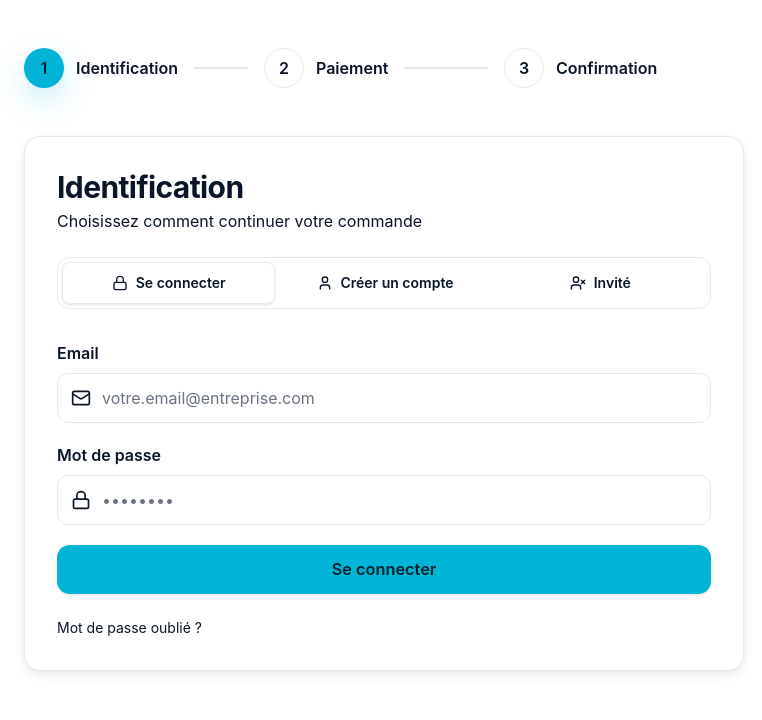
Test case: onglet inscription › affiche une erreur si les mots de passe ne correspondent pas
The width and height of the screenshot is (762, 720).
Click the button "Créer un compte". click: (385, 283)
box: x1=279 y1=262 x2=491 y2=304
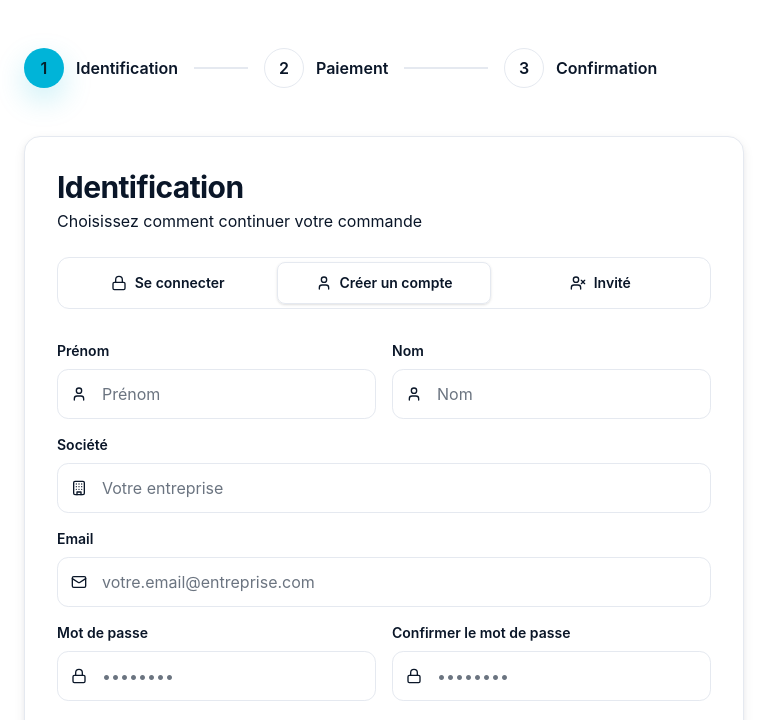
Type "Pass123!" into the password field with placeholder "••••••••". click: (216, 676)
box: x1=57 y1=651 x2=376 y2=701
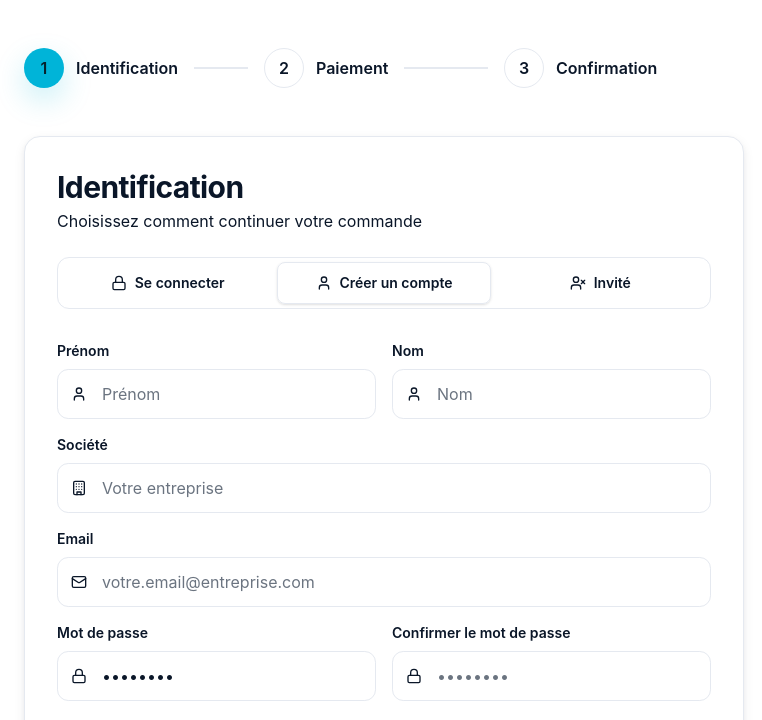
Type "Different1!" into the password field with placeholder "••••••••". click: (552, 676)
box: x1=392 y1=651 x2=711 y2=701
(page scrolled)
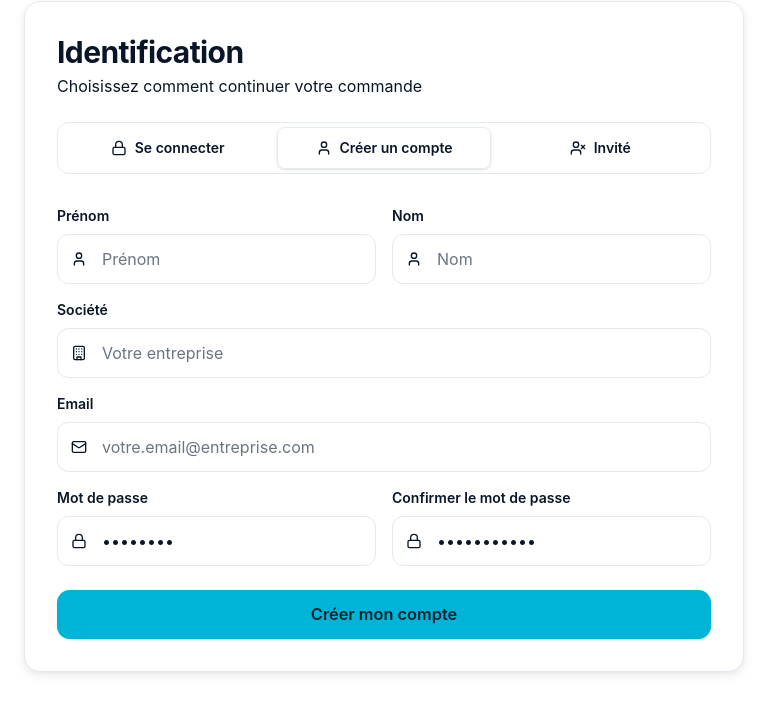
Submit the form with placeholder "••••••••", box x1=57 y1=206 x2=711 y2=639
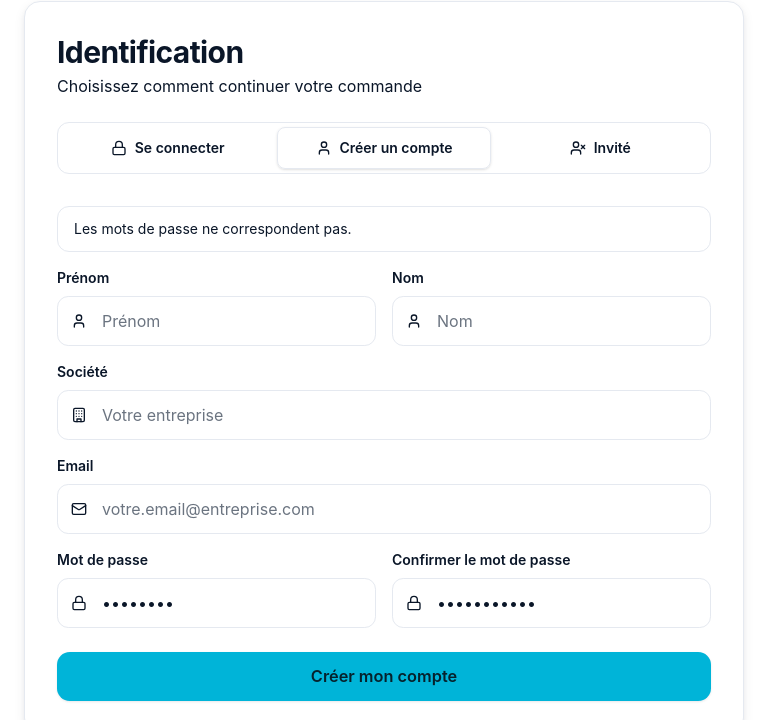
Expected: the text "Les mots de passe ne correspondent pas." is shown, x1=57 y1=206 x2=711 y2=252
